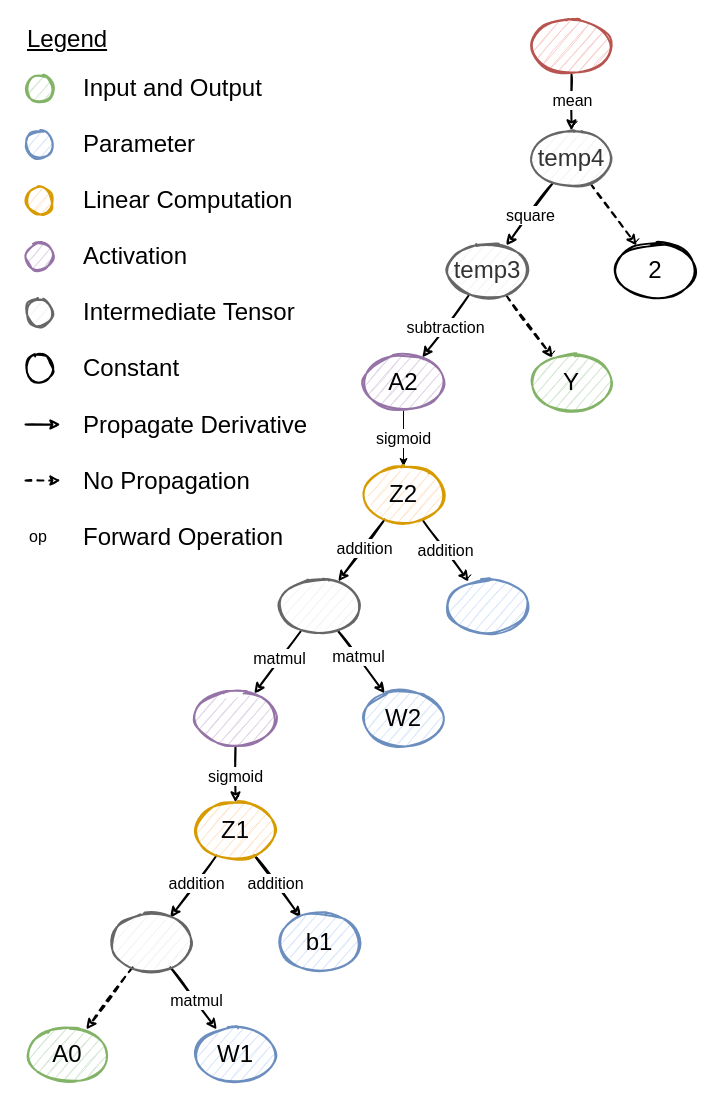
Some shapes in this 715 by 1100 pixel diagram are drawn without their labels. The centre of each missing label's shape, as x and y in pixels:
A1: point (235, 718)
b2: point (487, 606)
loss: point (571, 46)
temp1: point (151, 942)
temp2: point (319, 606)
